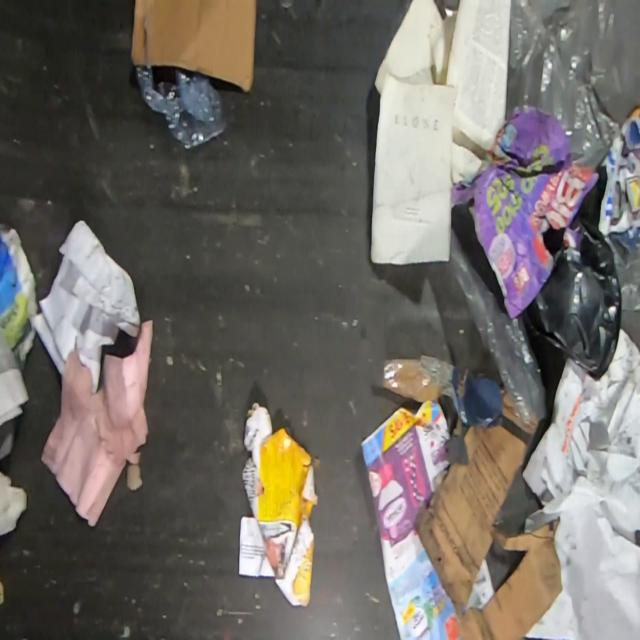cardboard: (417, 428, 563, 640), (238, 402, 318, 606), (380, 354, 521, 439), (130, 0, 257, 94)
rigid_plastic: (527, 223, 622, 379), (135, 66, 227, 150)
soft_plastic: (448, 207, 566, 428), (506, 0, 627, 168), (608, 237, 640, 312)
